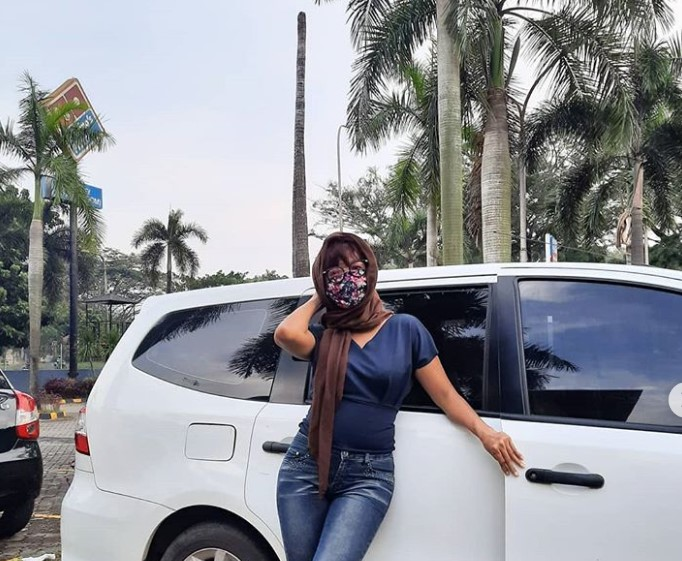face_with_mask: (316, 238, 373, 311)
